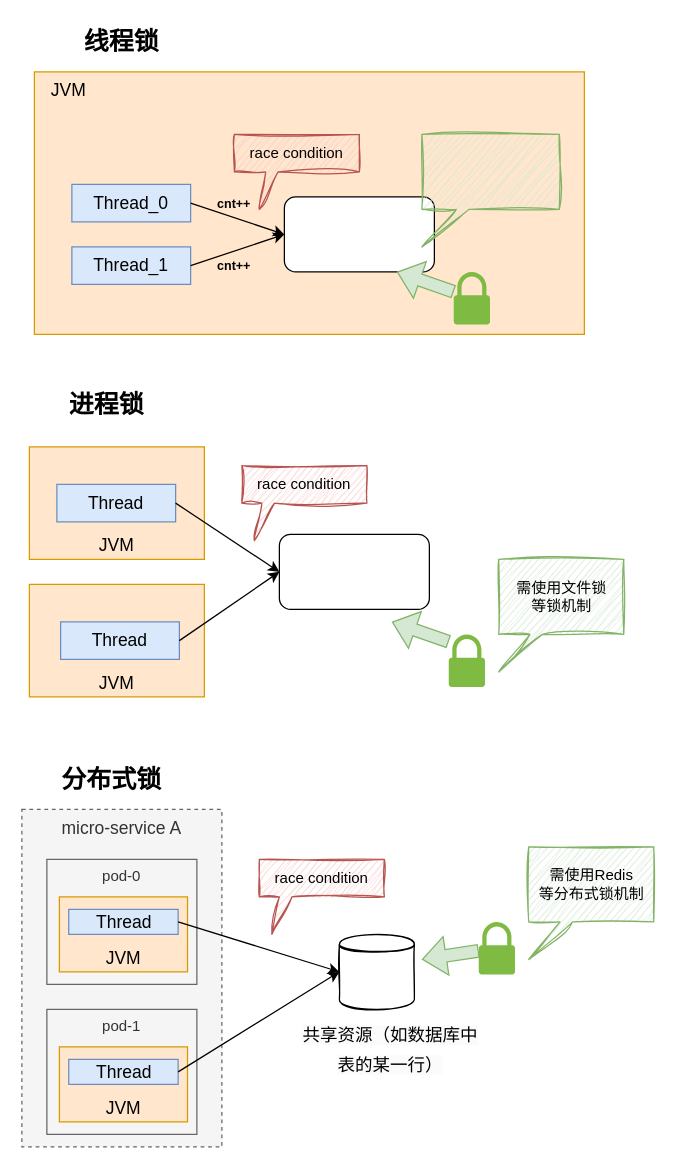
Some shapes in this 676 by 1169 pixel diagram are drawn without their labels. The shapes that lost their labels are listed below. From the top down, each one's centre as x and y in pixels, then its label:
[490,190]: 需使用 synchronized/Lock等锁机制
[358,234]: JVM中的某个类 （静态变量 cnt ）
[353,571]: Linux操作系统中的某个资源
